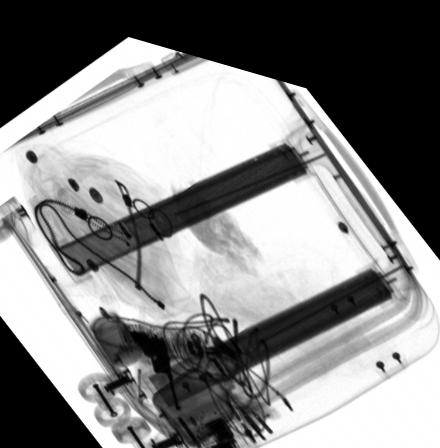Gun: (127, 322, 185, 401)
